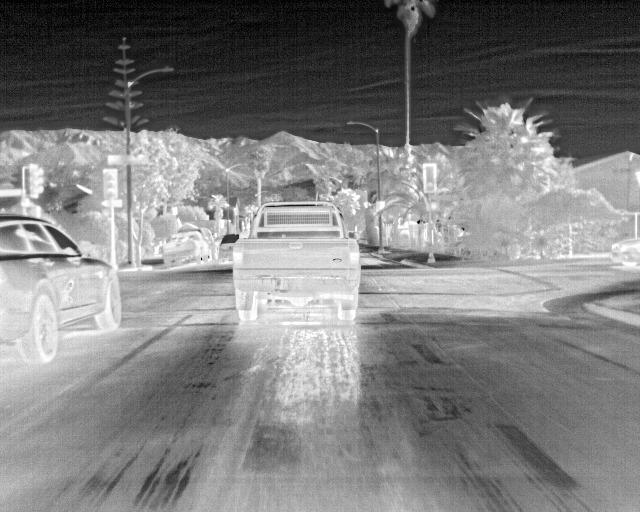car: (0, 213, 121, 363), (233, 201, 360, 321), (163, 231, 209, 266), (179, 227, 218, 260), (612, 239, 639, 266), (218, 234, 240, 262)
light: (32, 168, 44, 195), (105, 172, 116, 200), (425, 165, 435, 192)
sign: (108, 156, 146, 165), (102, 200, 122, 207), (376, 201, 385, 213), (173, 207, 178, 215)
